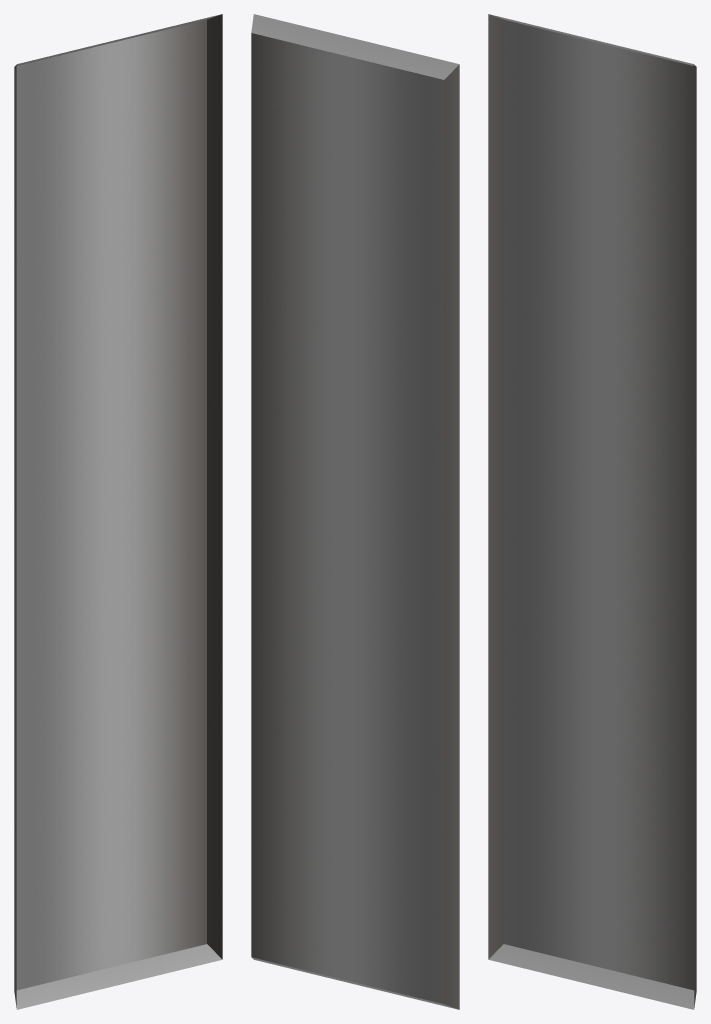
Rendered from Bouton_Ascenseur_Fond.FBX.
3 renders of one model, left to right at view 1: azimuth 30°, elevation 25°; view 2: azimuth 150°, elevation 25°; view 3: azimuth 330°, elevation 25°, orthographic.
Parts seen in each view (by area): view 1: Boutons02; view 2: Boutons02; view 3: Boutons02.
Part boxes in pixels (left/top/right/bottom): Boutons02: left=14, top=14, right=222, bottom=1009; Boutons02: left=251, top=14, right=459, bottom=1009; Boutons02: left=488, top=14, right=696, bottom=1009.
Size of the model in its own units: 20.49 by 89.94 by 1.55.
1 material, 1 textured.
